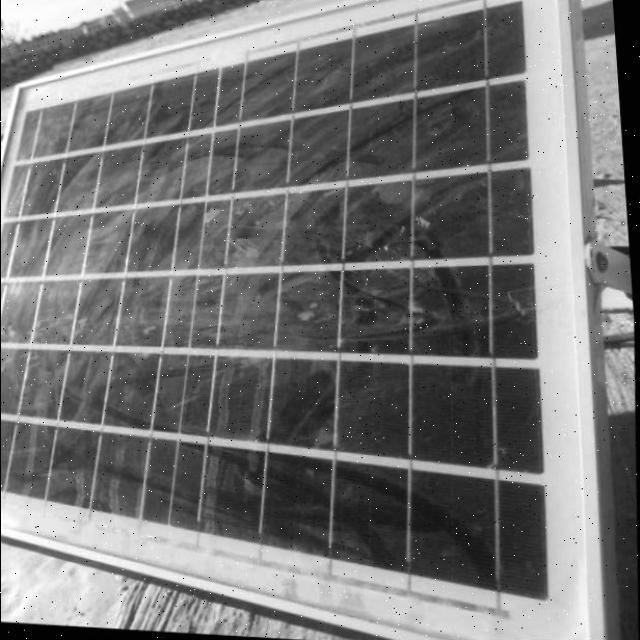Anomaly Solar Panel: (0, 0, 562, 623)
Surface Contaminant: (0, 125, 503, 377)
